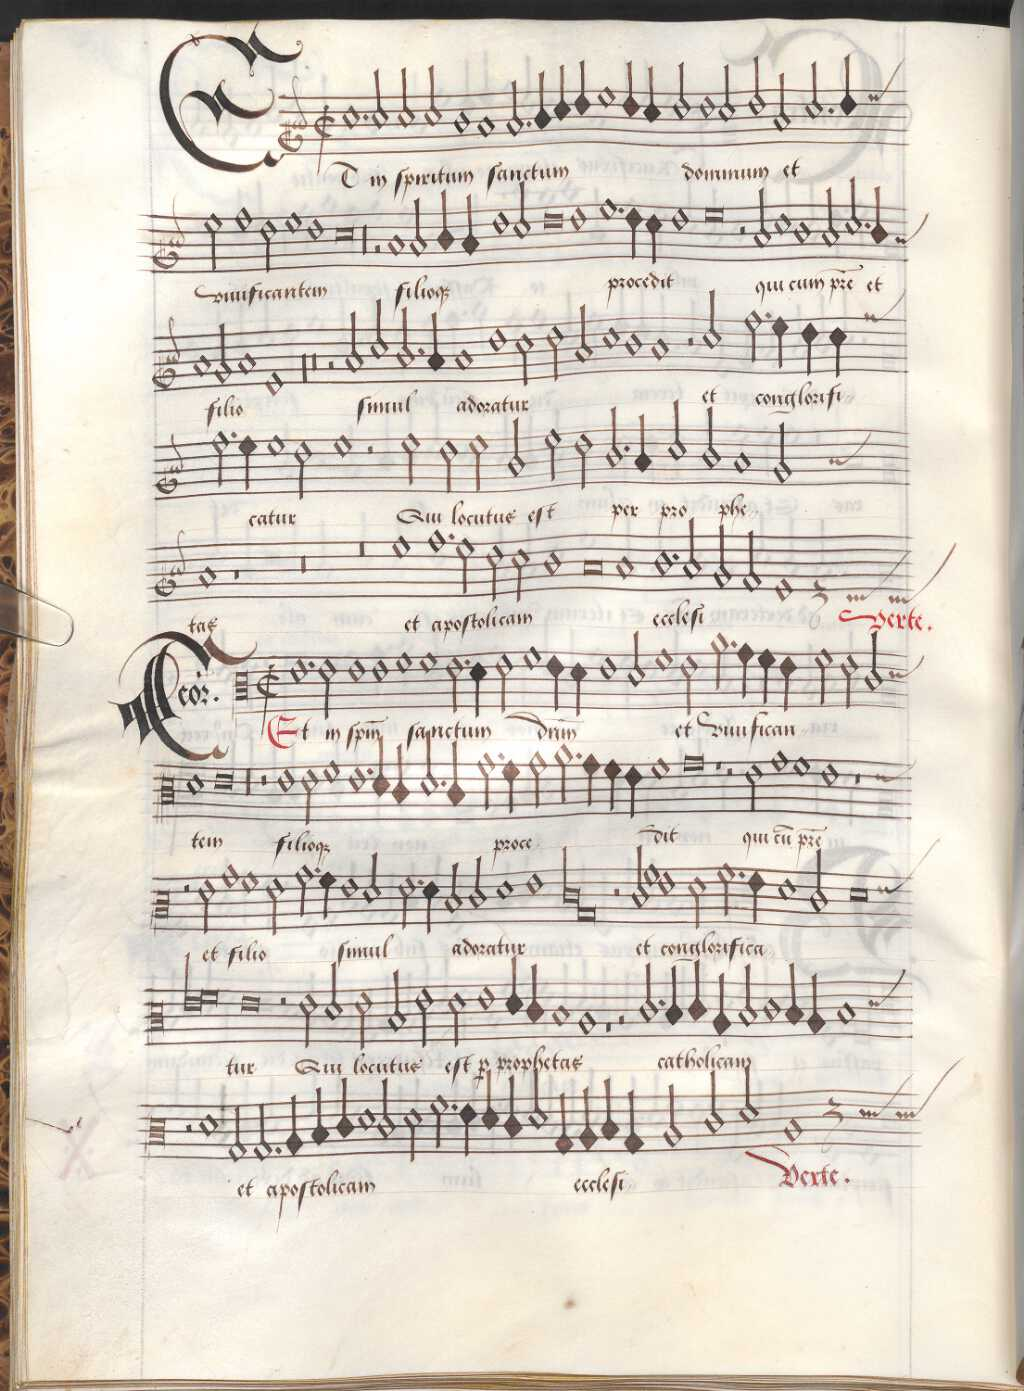breve rest: (307, 320, 321, 393)
custos_3: (865, 292, 898, 332)
g clef_9: (151, 311, 185, 399)
longa rest: (293, 329, 312, 403)
minim rest: (681, 310, 697, 376), (324, 322, 339, 392)
minim_3: (742, 302, 763, 368)
minim_5: (544, 314, 566, 384)
minim_6: (701, 284, 724, 357), (367, 292, 389, 367), (512, 320, 535, 390)
minim_7: (392, 298, 415, 376)
minim_8: (343, 302, 366, 381), (572, 297, 593, 370)
minim_9: (212, 313, 233, 392)
point: (413, 338, 426, 361), (758, 307, 773, 325)
semibreve_11: (261, 361, 288, 405)
semibreve_5: (484, 318, 511, 362)
semibreve_6: (599, 318, 623, 357)
semibreve_7: (622, 323, 647, 366)
semibreve_8: (452, 338, 479, 382), (235, 340, 260, 384), (647, 327, 672, 370), (191, 345, 214, 384)
semiminim_4: (773, 308, 791, 374)
semiminim_5: (800, 313, 820, 383)
semiminim_6: (826, 316, 849, 374)
semiminim_8: (425, 308, 446, 380)
